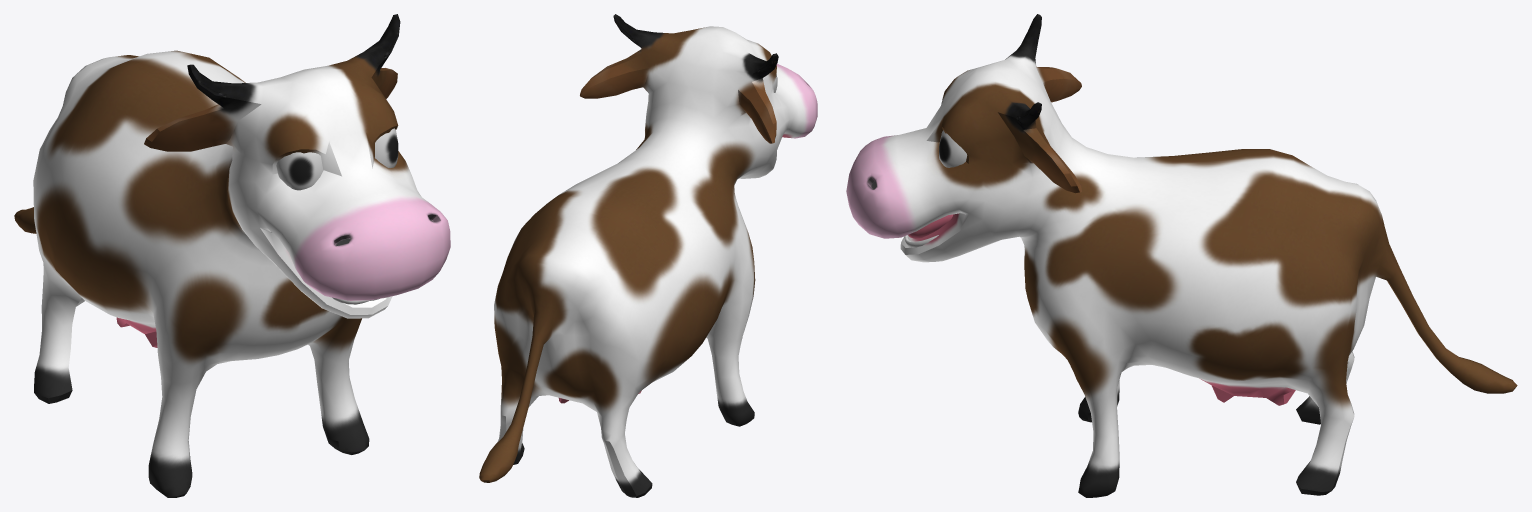
The model's file is asset.glb.
The picture shows the model from 3 angles, left to right: view 1: azimuth 30°, elevation 25°; view 2: azimuth 150°, elevation 25°; view 3: azimuth 270°, elevation 25°; orthographic projection. The views are drawn at different scales.
Parts seen in each view (by area): view 1: Cow.1; view 2: Cow.1; view 3: Cow.1.
Part boxes in pixels (x1,y1,x2,y2): Cow.1: (14,14,450,497); Cow.1: (479,14,817,497); Cow.1: (846,14,1517,497).
Size of the model in its own units: 376 by 653 by 996.
1 material, 1 textured.
